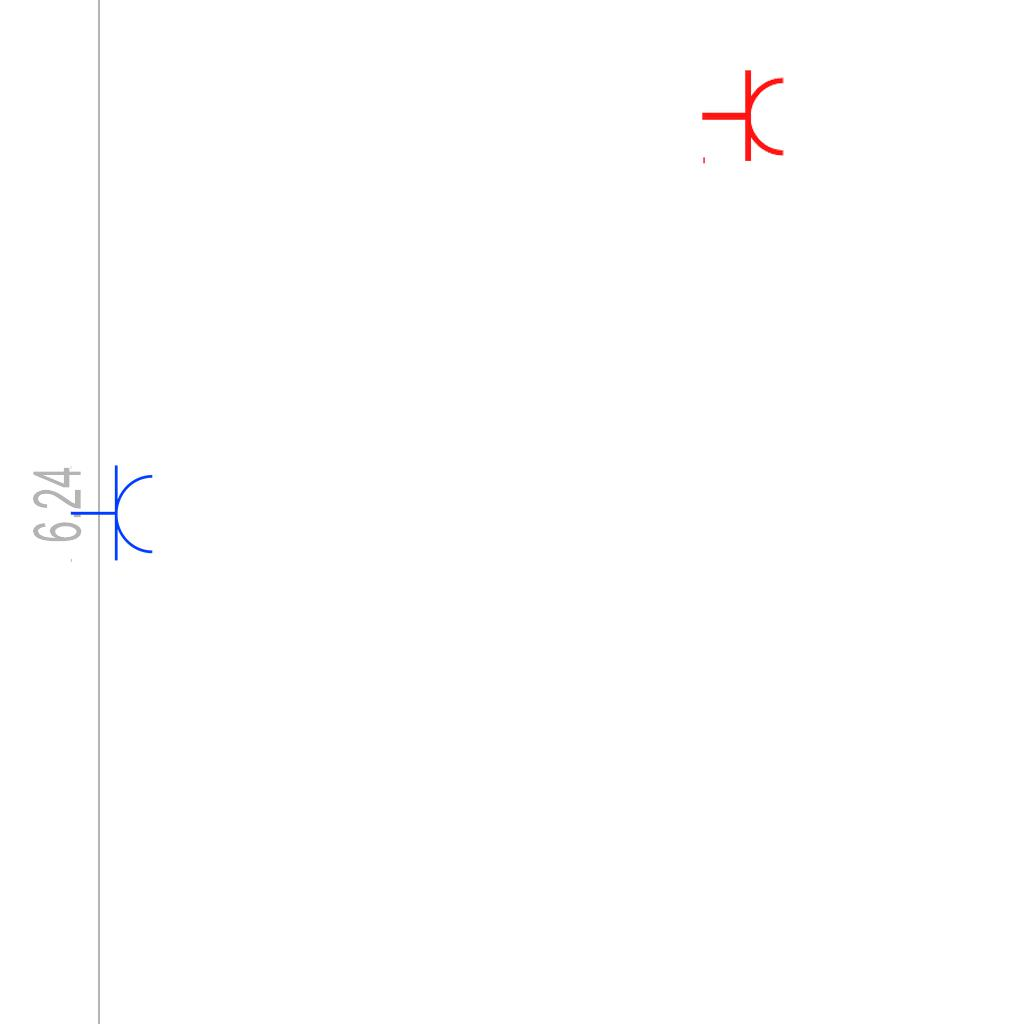Schukosteckdose_einfach: (700, 68, 787, 168), (70, 464, 157, 564)
